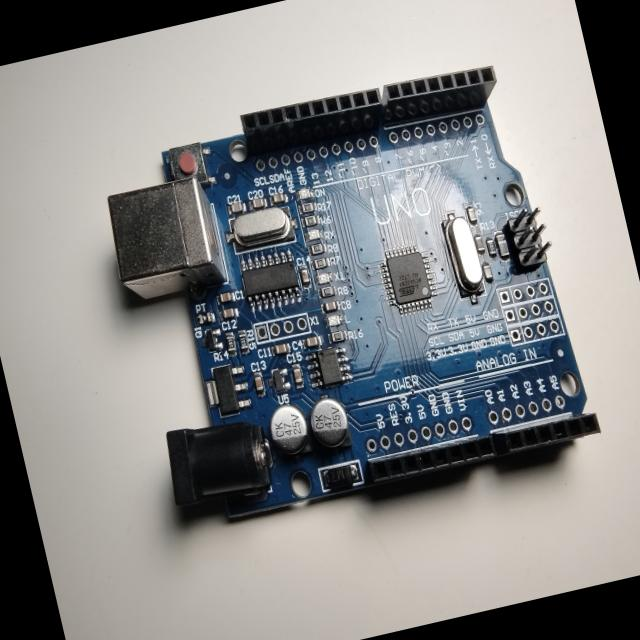arduino: (88, 38, 623, 554)
